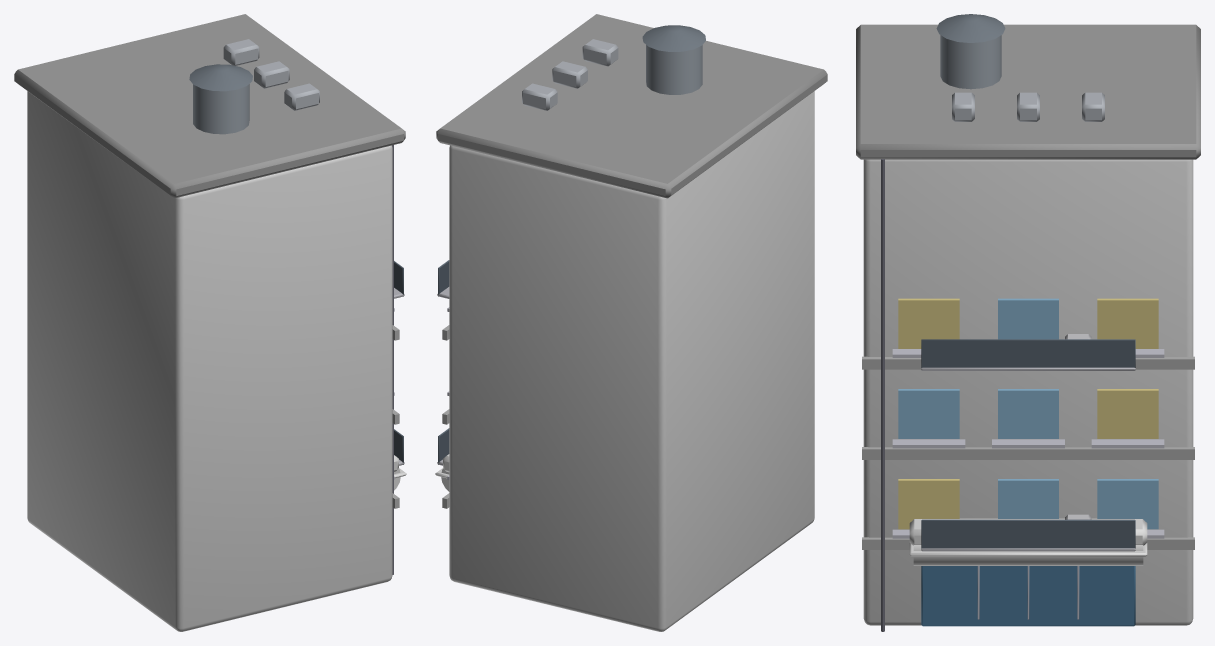
The model's file is bld_3.glb.
3 renders of one model, left to right at view 1: azimuth 30°, elevation 25°; view 2: azimuth 150°, elevation 25°; view 3: azimuth 270°, elevation 25°, orthographic. The views are drawn at different scales.
Visible parts, largest first — view 1: b; view 2: b; view 3: b.
Boxes of the visible parts, bbox=[...] form: b: bbox=[14, 14, 406, 631]; b: bbox=[435, 14, 827, 631]; b: bbox=[856, 14, 1200, 631].
Size of the model in its own units: 8.5 by 15.7 by 9.
